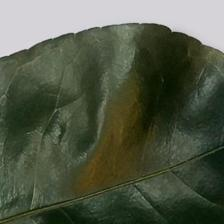healthy: (2, 46, 224, 224)
